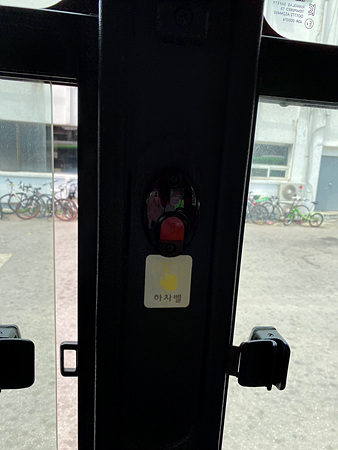bell: (146, 179, 194, 258)
